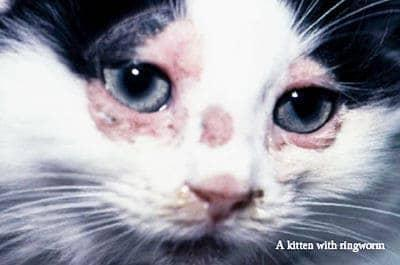ringworm: (84, 87, 178, 145), (276, 125, 335, 151), (207, 106, 234, 149)
